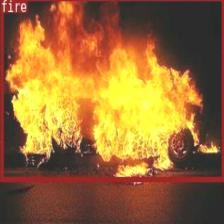fire: (0, 0, 224, 180)
